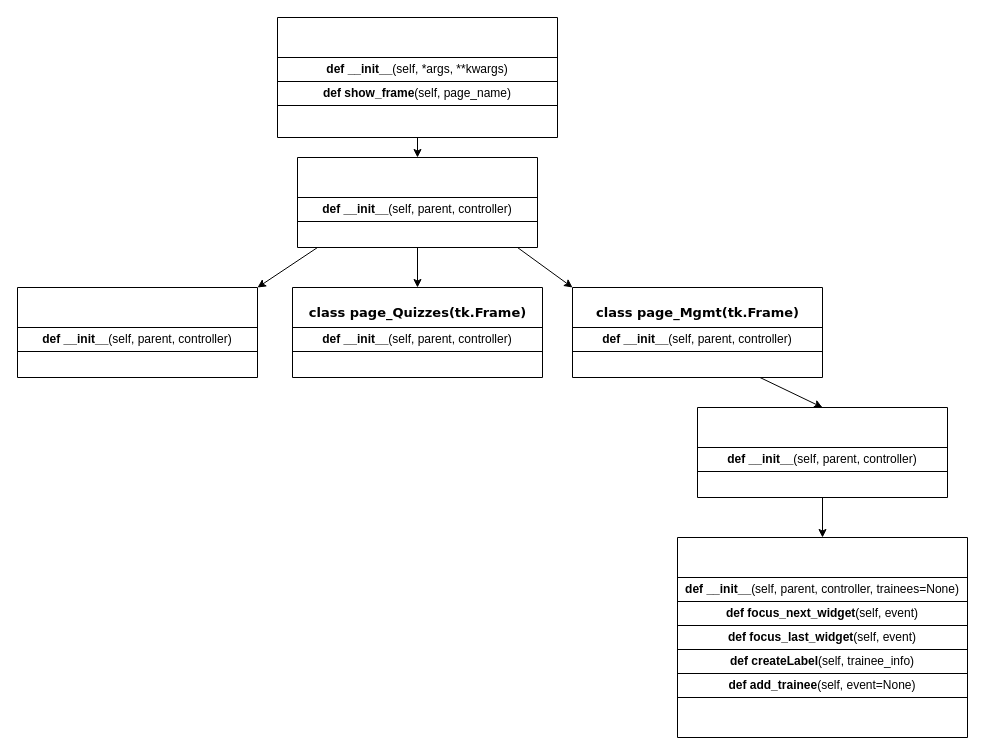
Image size: 985x755. Some labels were removed from this diagram. Here are the shapes that lost their labels. From the top down, the box of each, then its label:
(276, 16, 558, 138): class BellBankLMS(tk.TK)
(296, 156, 538, 248): class page_Menu(tk.Frame)
(16, 286, 258, 378): class page_Training(tk.Frame)
(696, 406, 948, 498): class page_Roster(tk.Frame)
(676, 536, 968, 738): class page_addClass(tk.Frame)
